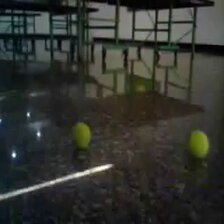tennis: (188, 128, 210, 159), (71, 121, 91, 150)
